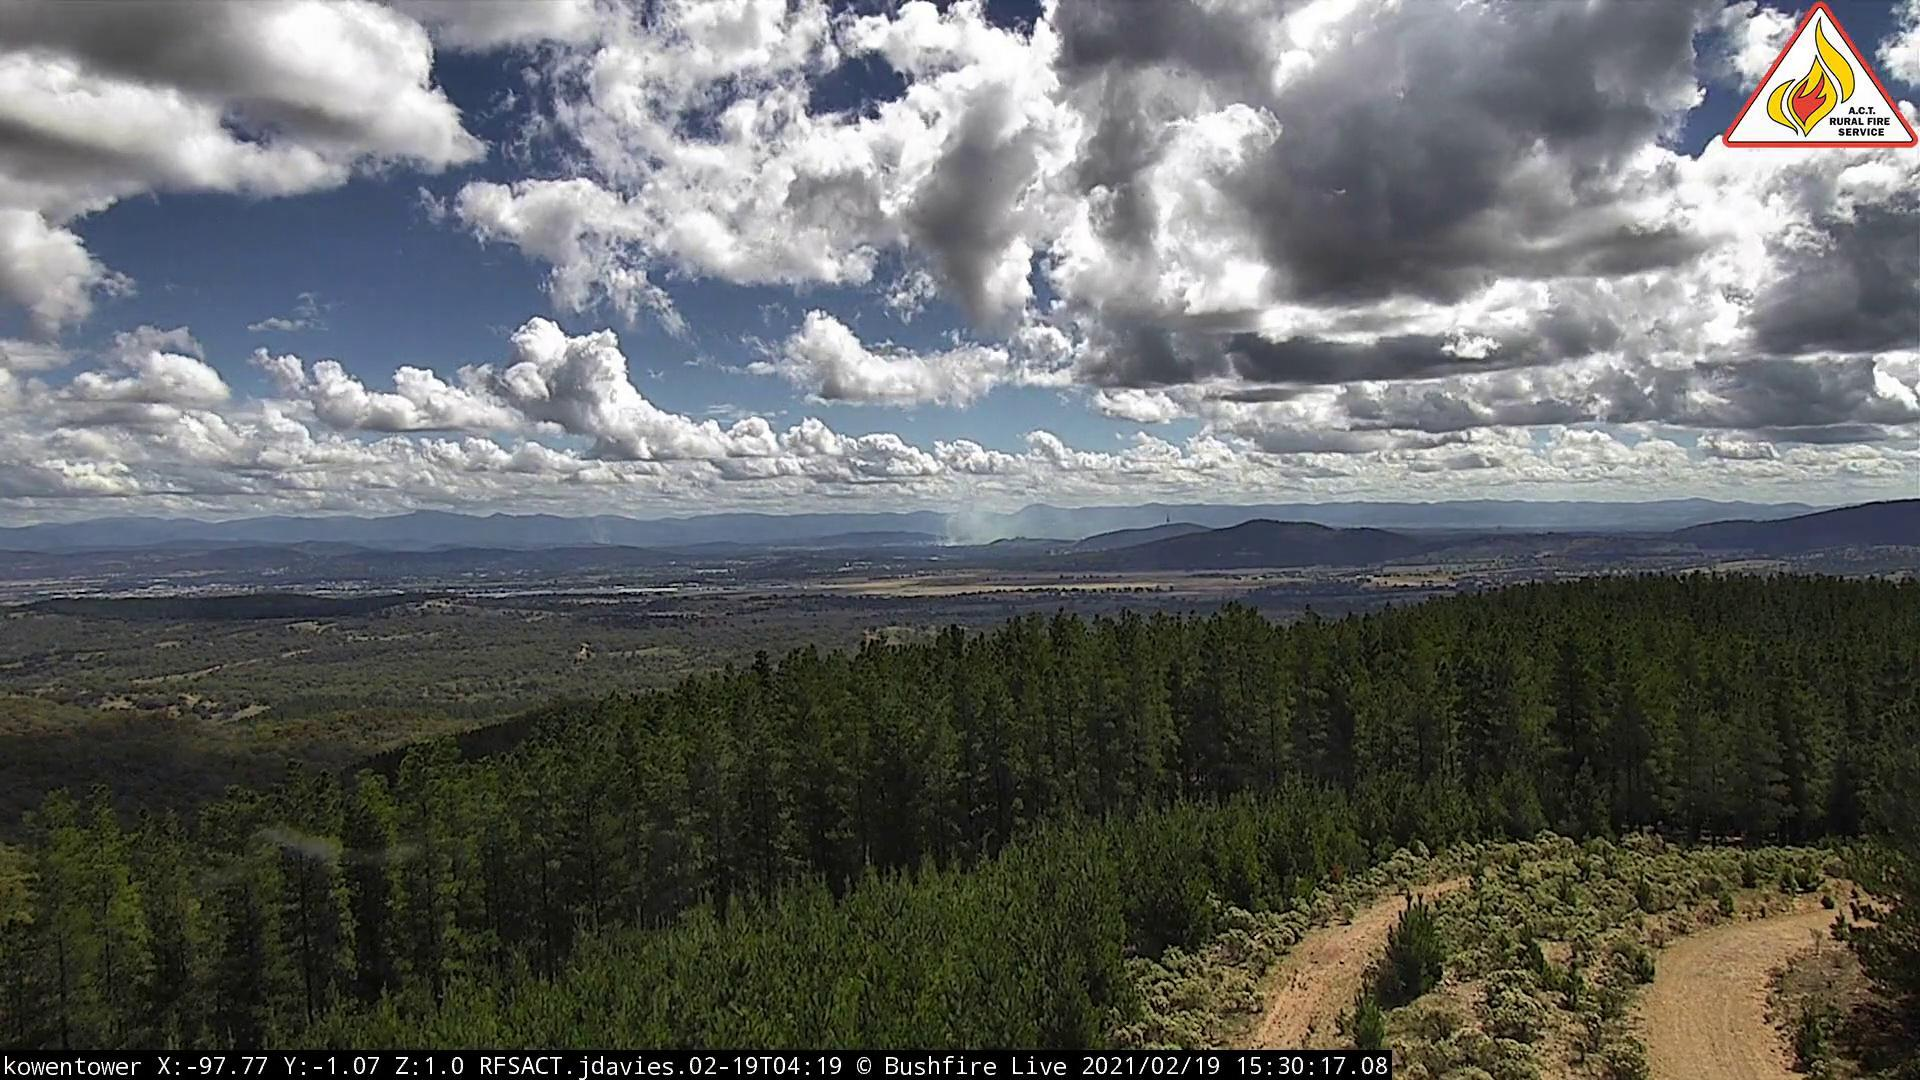instance_salient_object: (935, 498, 1058, 551), (596, 534, 616, 555)
